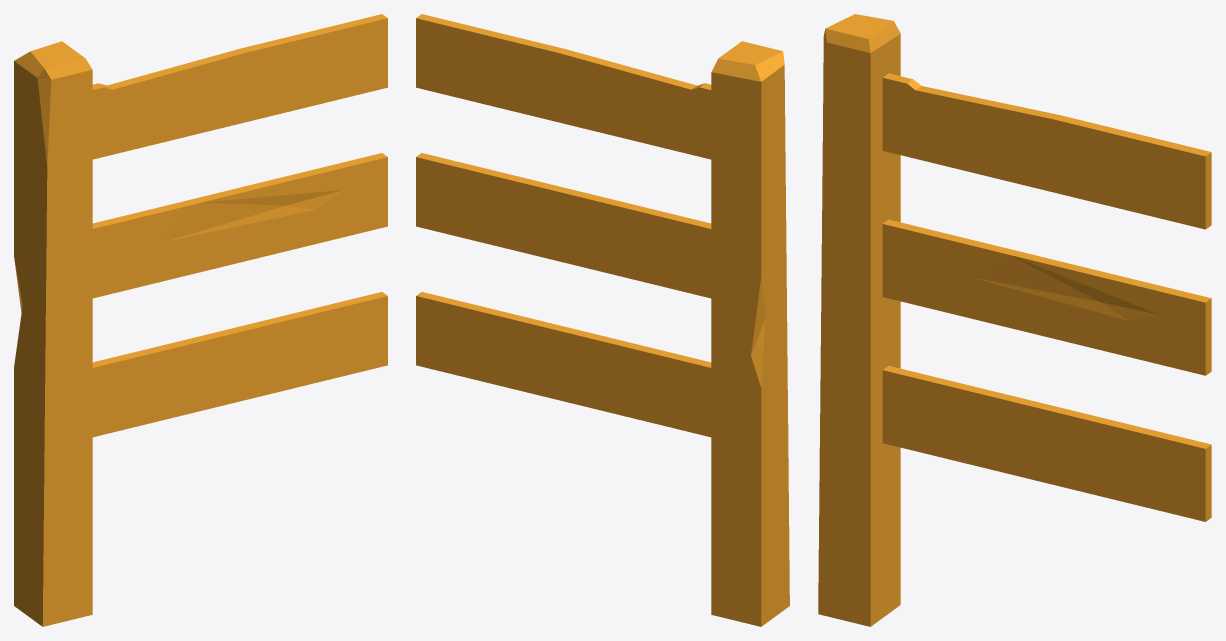
File: SM_Fence_Horse_1m.fbx
3 views of the same model, side by side, from view 1: azimuth 30°, elevation 25°; view 2: azimuth 150°, elevation 25°; view 3: azimuth 330°, elevation 25° (orthographic). The views are drawn at different scales.
Parts seen in each view (by area): view 1: fence-horse-1m; view 2: fence-horse-1m; view 3: fence-horse-1m.
Boxes of the visible parts, x1,y1,x2,y2 form: fence-horse-1m: (14, 14, 387, 626); fence-horse-1m: (416, 14, 789, 626); fence-horse-1m: (818, 14, 1211, 626).
Size of the model in its own units: 1.08 by 1.6 by 0.15.
